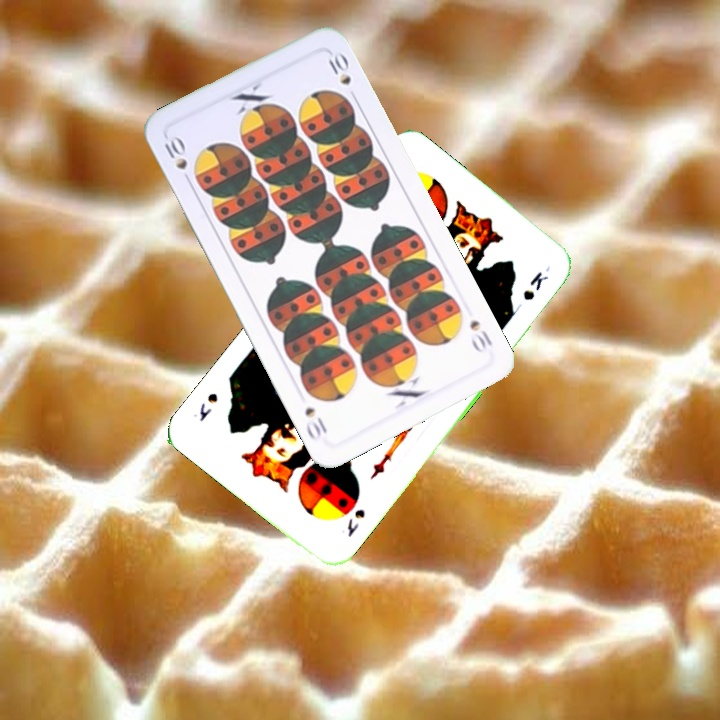S10: (160, 131, 190, 173), (465, 315, 495, 356)
SK: (342, 504, 368, 540)
